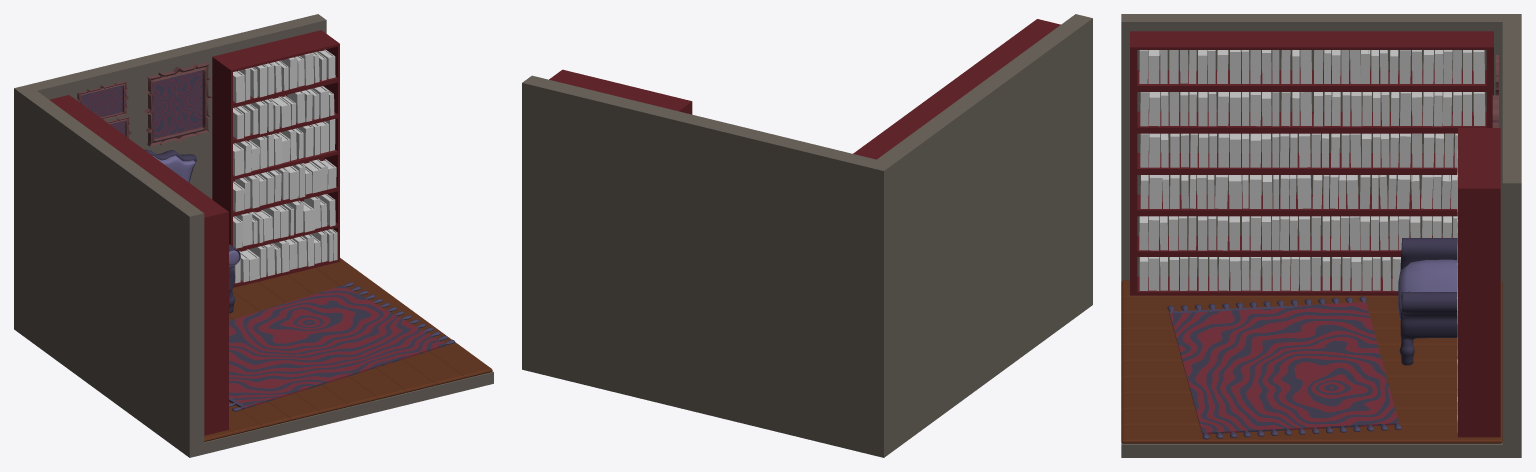
File: room library2.fbx
The picture shows the model from 3 angles, left to right: view 1: azimuth 30°, elevation 25°; view 2: azimuth 150°, elevation 25°; view 3: azimuth 270°, elevation 25°; orthographic projection. The views are drawn at different scales.
Parts seen in each view (by area): view 1: bg, carpet, floor, bookshelf.001, bookshelf, picture, book r2, book r3, book r4, book r1, book r5, book r6 (+2 smaller); view 2: bg, bookshelf, bookshelf.001; view 3: bg, bookshelf, carpet, floor, bookshelf.001, books l5, books l6, books l4, books l3, books l2, books l1, chair (+2 smaller).
Part boxes in pixels (x1,y1,x2,y2): bg: (14,14,493,457); carpet: (229,285,446,409); floor: (204,258,492,441); bookshelf.001: (212,30,339,287); bookshelf: (49,95,228,435); picture: (76,62,212,146); book r2: (233,194,335,248); book r3: (233,159,336,211); book r4: (233,119,335,175); book r1: (234,229,337,283); book r5: (233,86,334,139); book r6: (233,49,335,102); bg: (522,14,1092,457); bookshelf: (853,19,1060,159); bookshelf.001: (549,69,692,114); bg: (1121,14,1521,457); bookshelf: (1130,31,1493,295); carpet: (1169,302,1399,434); floor: (1121,280,1502,443); bookshelf.001: (1458,128,1500,437); books l5: (1140,92,1485,126); books l6: (1139,50,1484,83); books l4: (1140,133,1457,167); books l3: (1140,175,1457,208); books l2: (1139,216,1457,250); books l1: (1139,257,1400,290); chair: (1399,238,1457,365).
Bounding box in the file's own units: 468 × 354 × 468.
